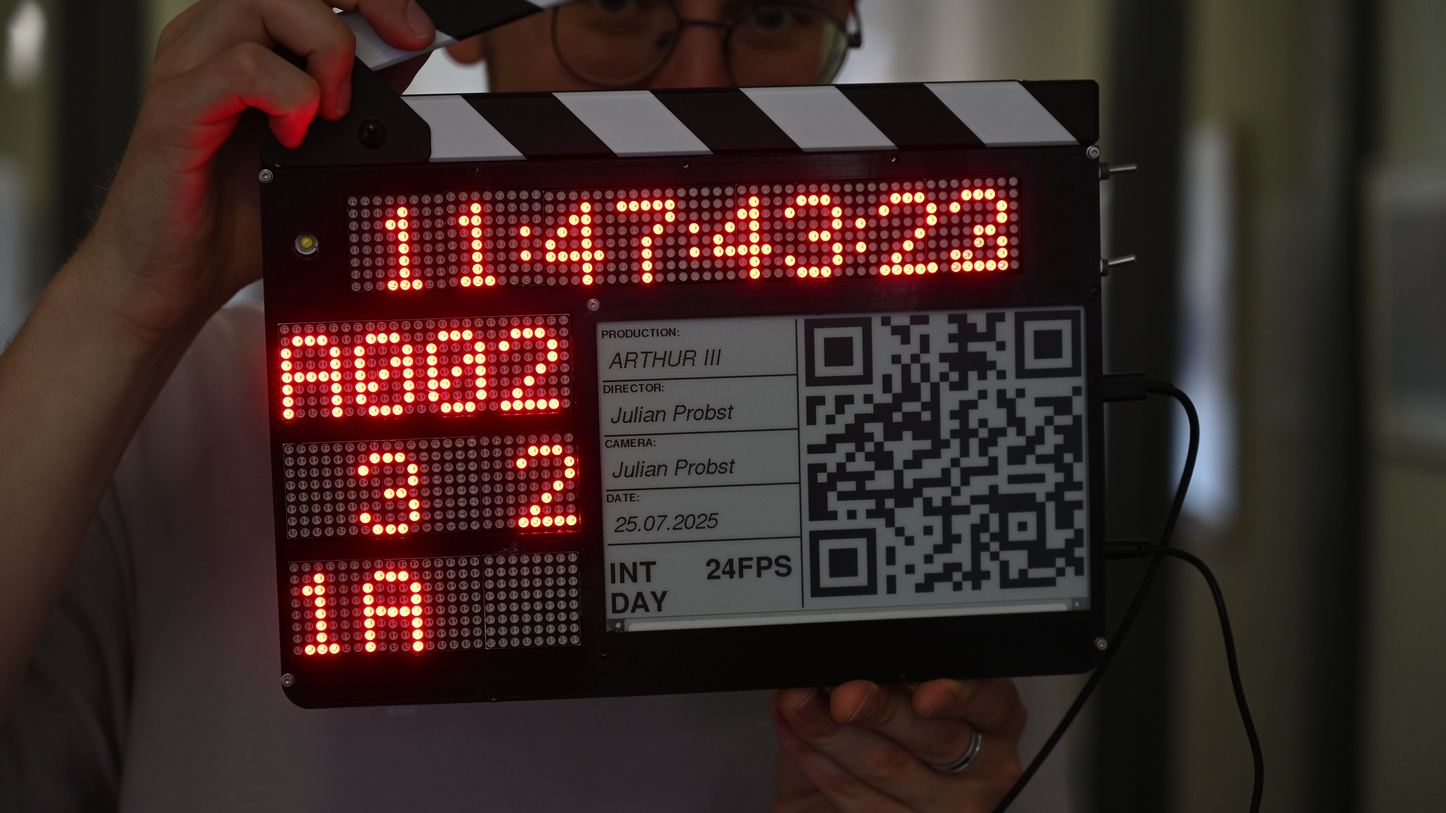ARC-SLATE: (261, 80, 1106, 713)
